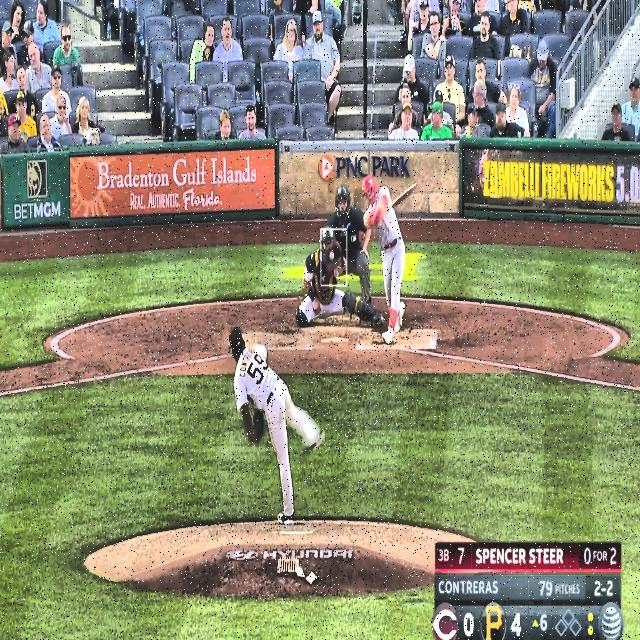baseball: (329, 250, 335, 261)
